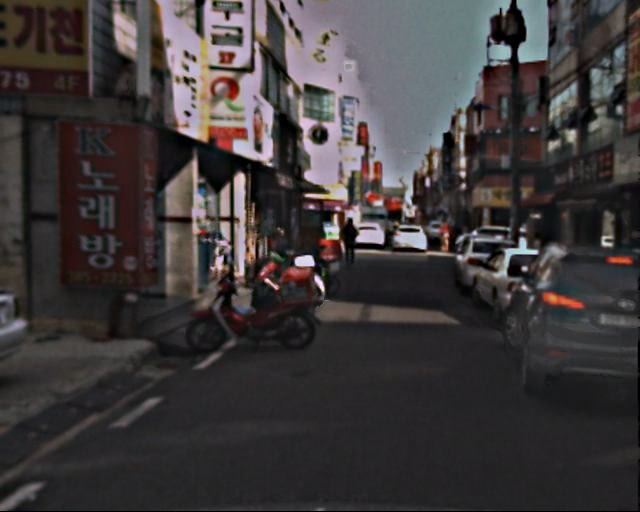person: (340, 216, 362, 269), (439, 221, 459, 253)
